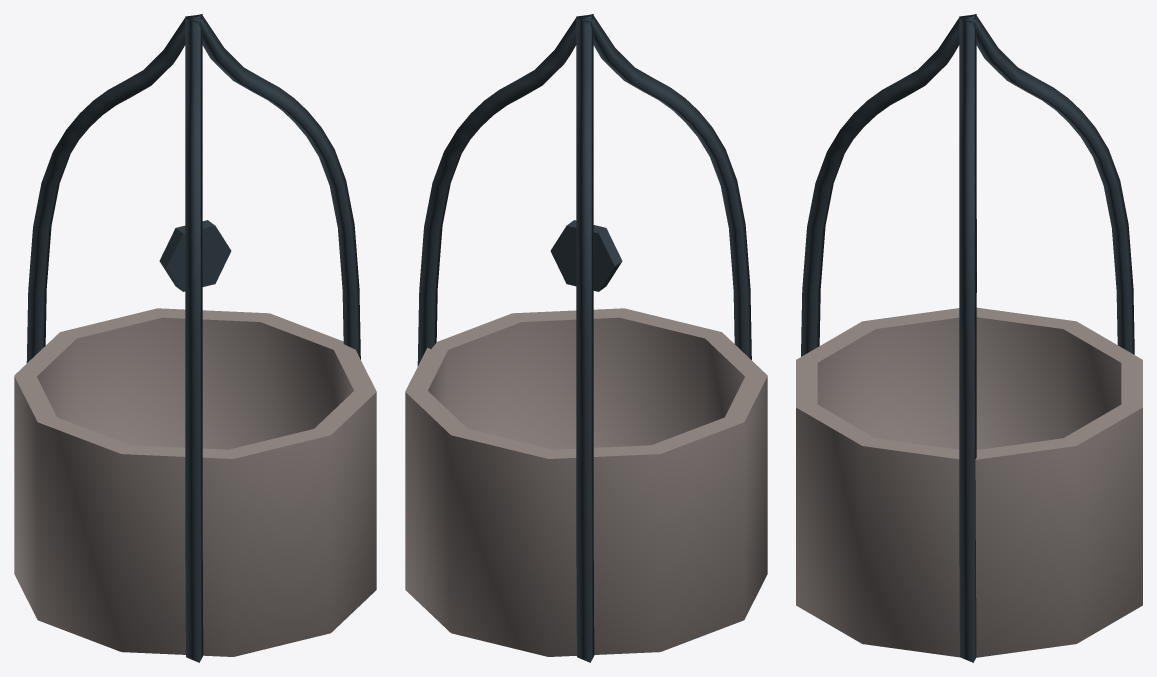
File: ito.fbx
The picture shows the model from 3 angles, left to right: view 1: azimuth 30°, elevation 25°; view 2: azimuth 150°, elevation 25°; view 3: azimuth 270°, elevation 25°; orthographic projection.
Parts seen in each view (by area): view 1: pCylinder5; view 2: pCylinder5; view 3: pCylinder5.
Boxes of the visible parts, left/top/right/bottom form: pCylinder5: left=14, top=14, right=376, bottom=662; pCylinder5: left=405, top=14, right=767, bottom=662; pCylinder5: left=796, top=14, right=1142, bottom=662.
Size of the model in its own units: 285 by 472 by 263.
